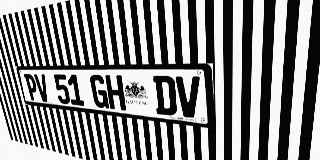1: (66, 74, 85, 106)
5: (53, 74, 71, 105)
D: (153, 76, 177, 116)
G: (89, 75, 109, 109)
H: (105, 75, 126, 111)
P: (24, 74, 40, 101)
V: (175, 76, 201, 119), (34, 74, 50, 102)
